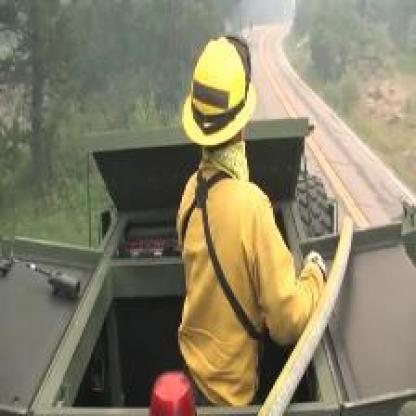other: (152, 31, 322, 400)
